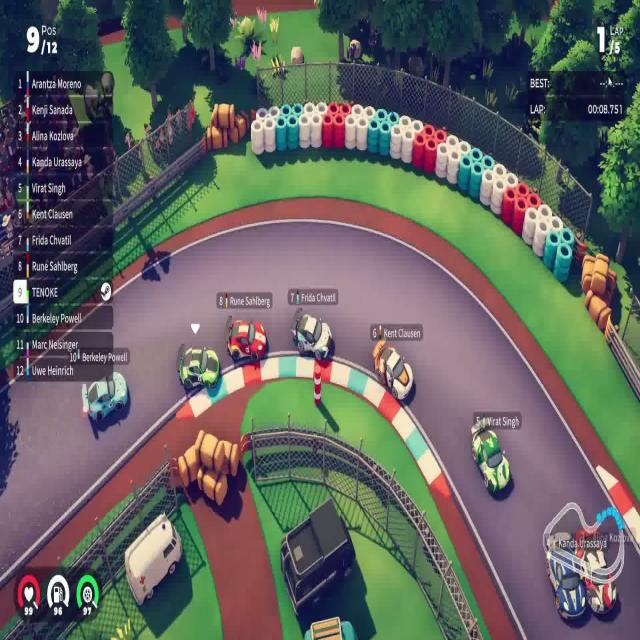car: (574, 528, 619, 619), (470, 412, 510, 496), (548, 535, 586, 615), (372, 336, 413, 402), (82, 369, 128, 424), (291, 311, 333, 361), (178, 345, 220, 392), (226, 318, 267, 364)
